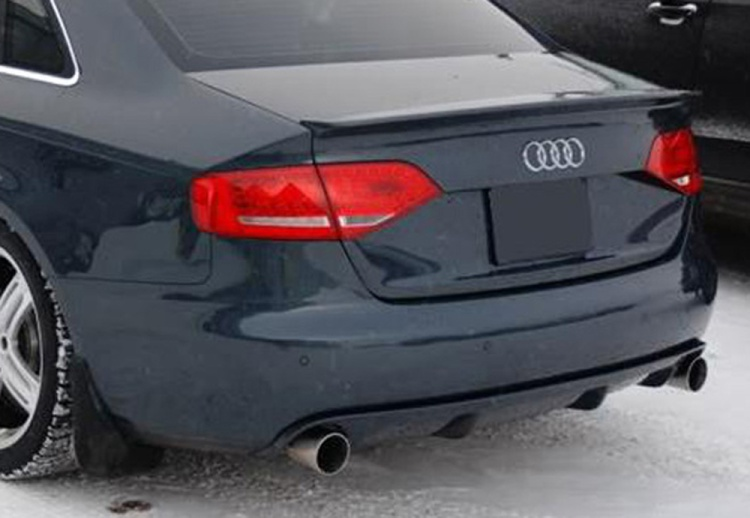audi: (516, 132, 590, 177)
